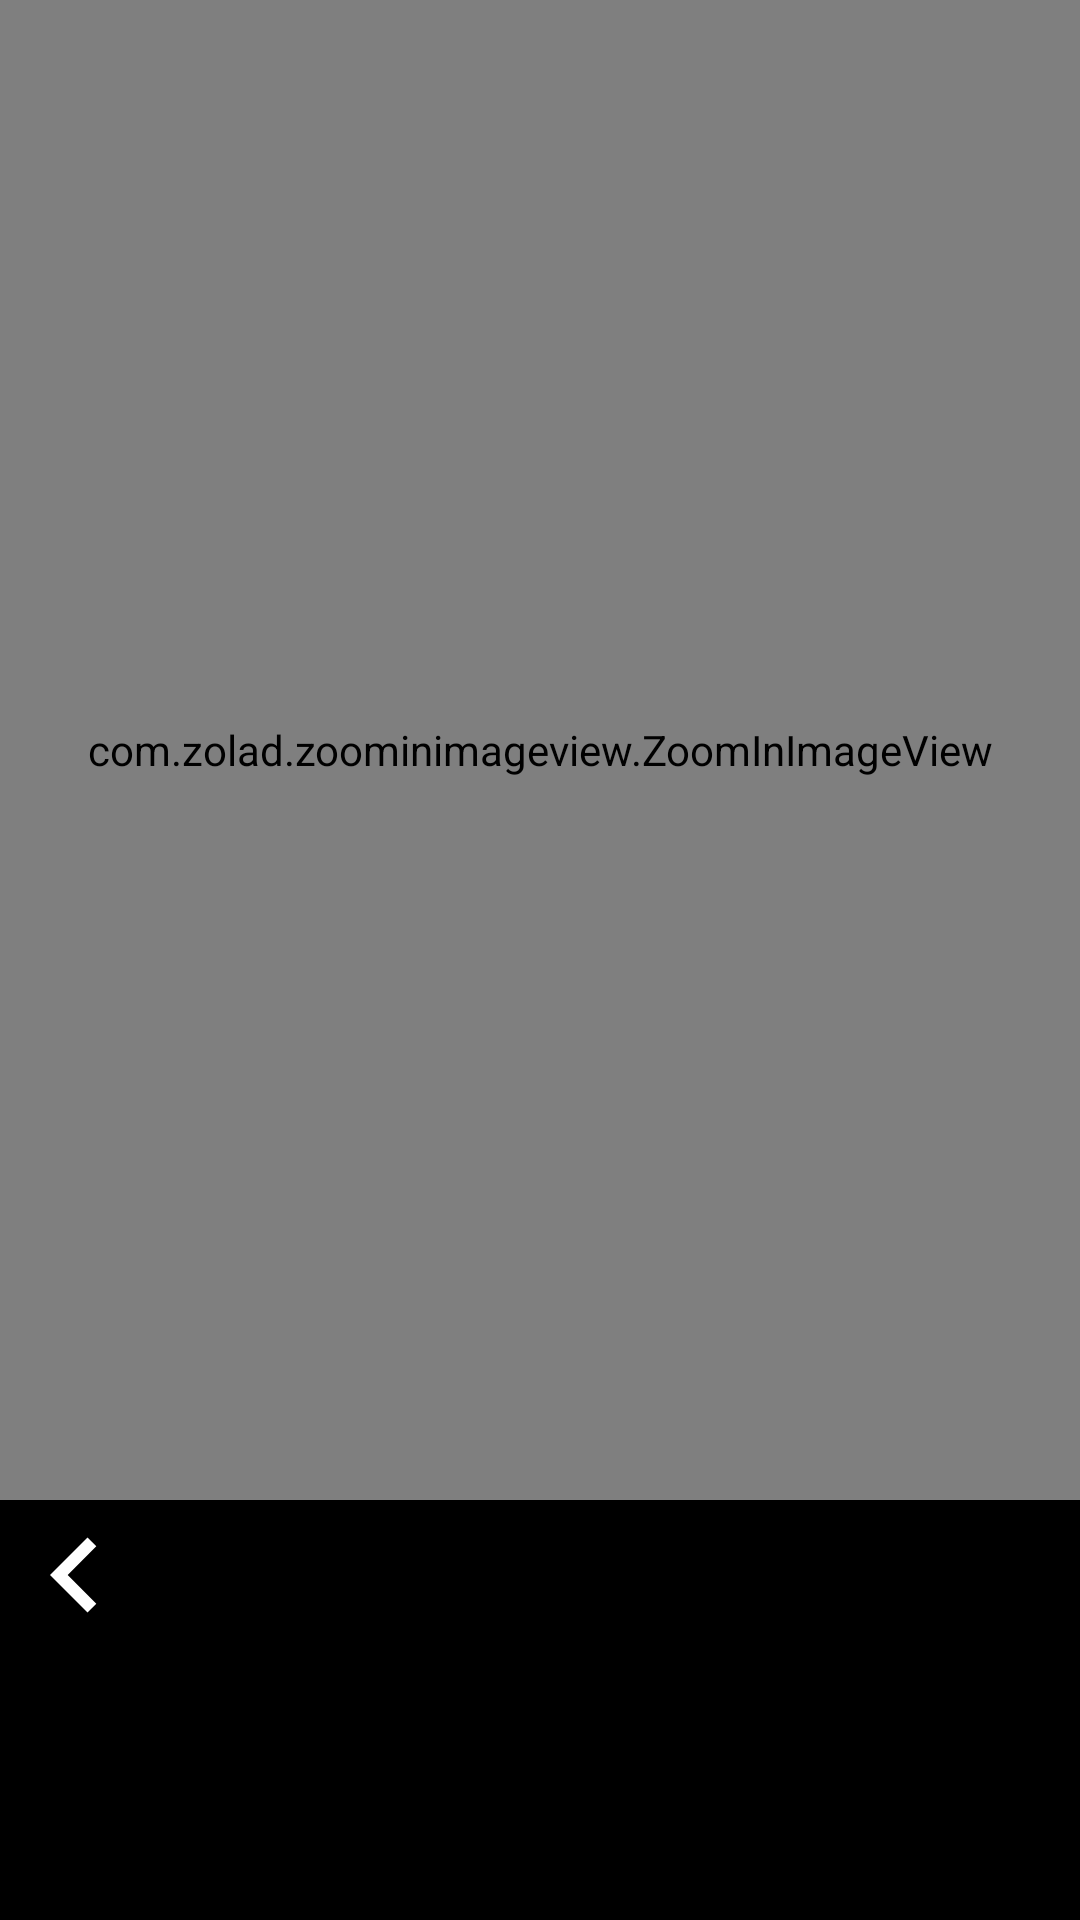

Point at icon controls on the screen. Image size 1080 × 1920, points as (x=x, y=y).
before: (x=73, y=1575)
